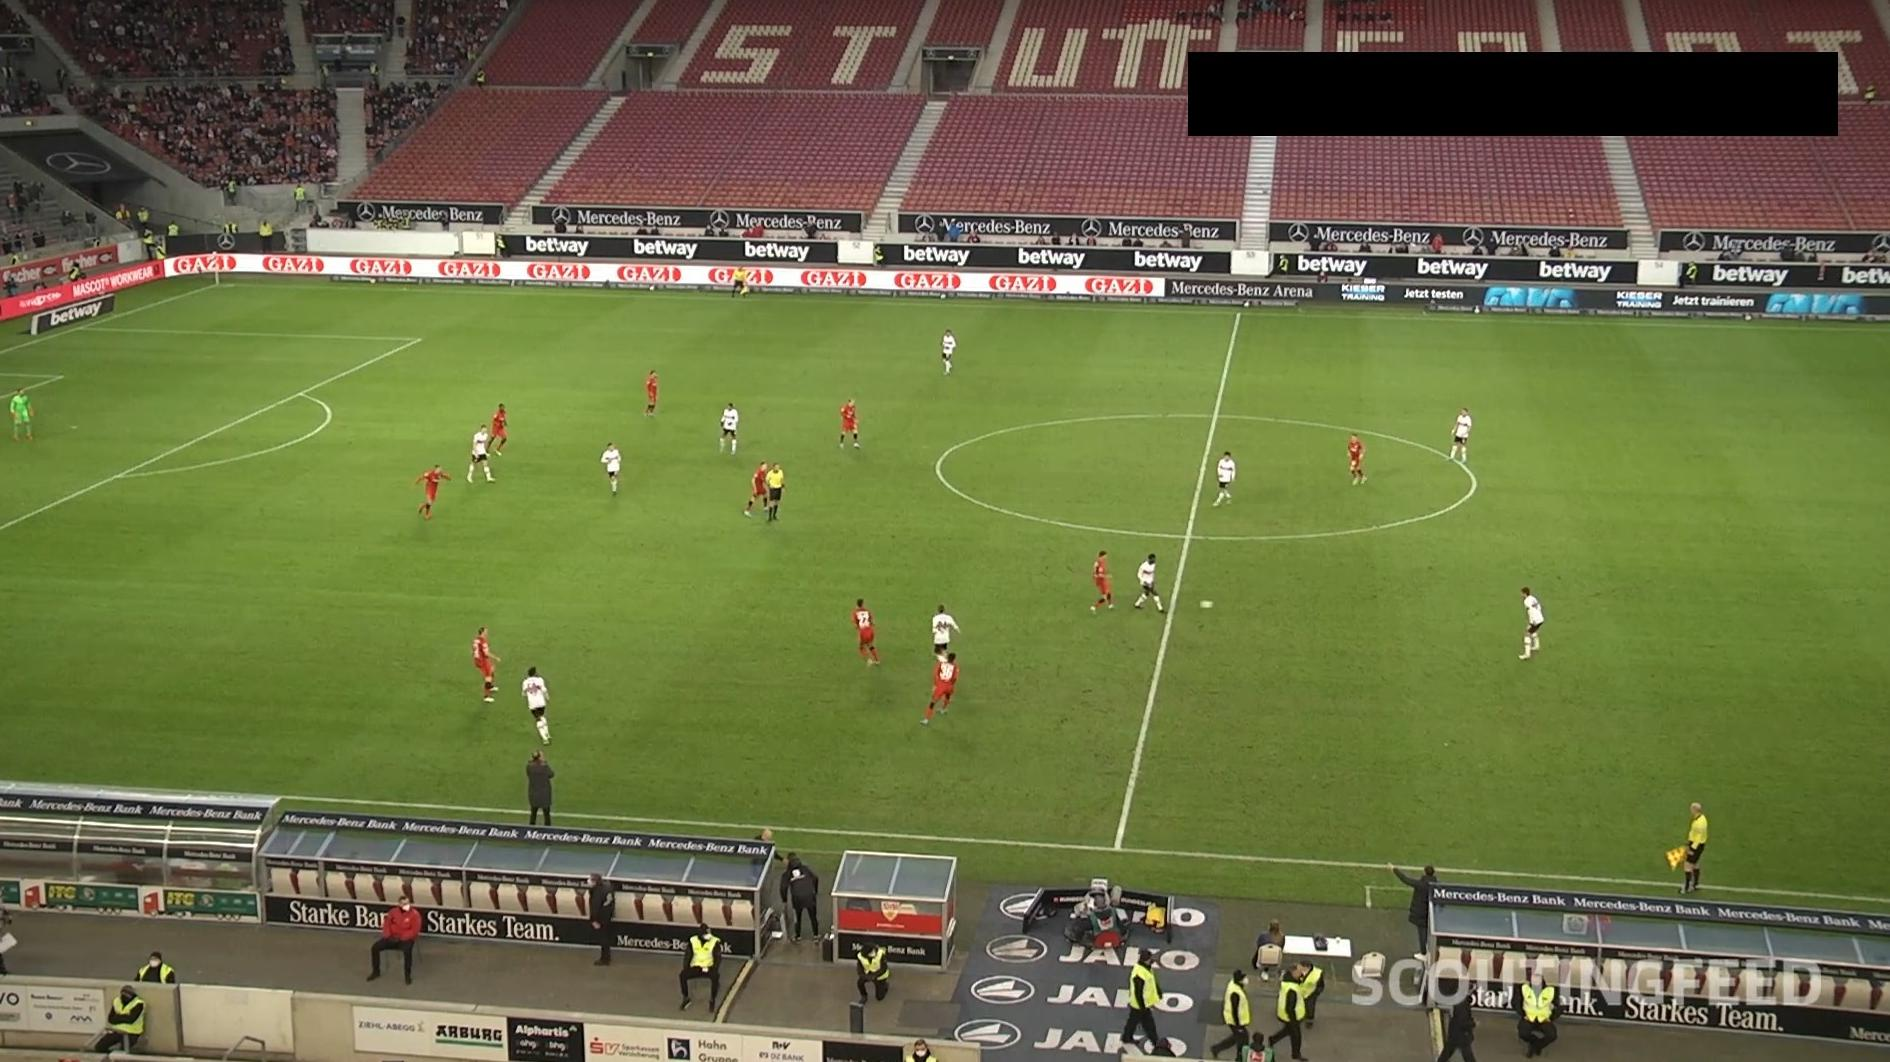ball: (1198, 599, 1215, 610)
